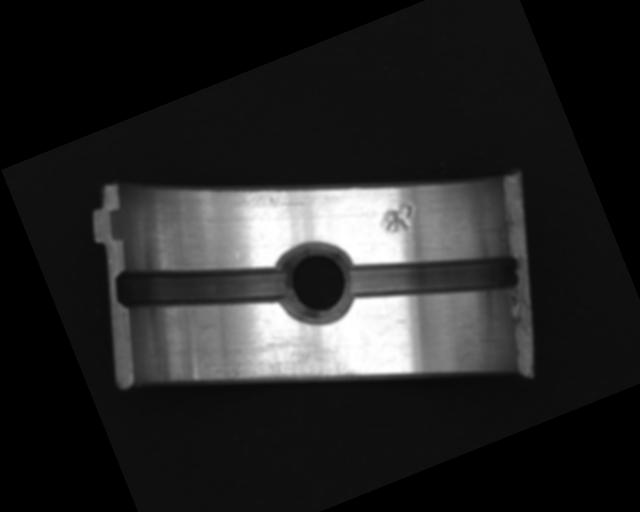bruise: (374, 197, 424, 242)
gap: (108, 214, 296, 356), (346, 210, 525, 341)
hole: (265, 231, 369, 335)
scratch: (209, 313, 369, 428)
